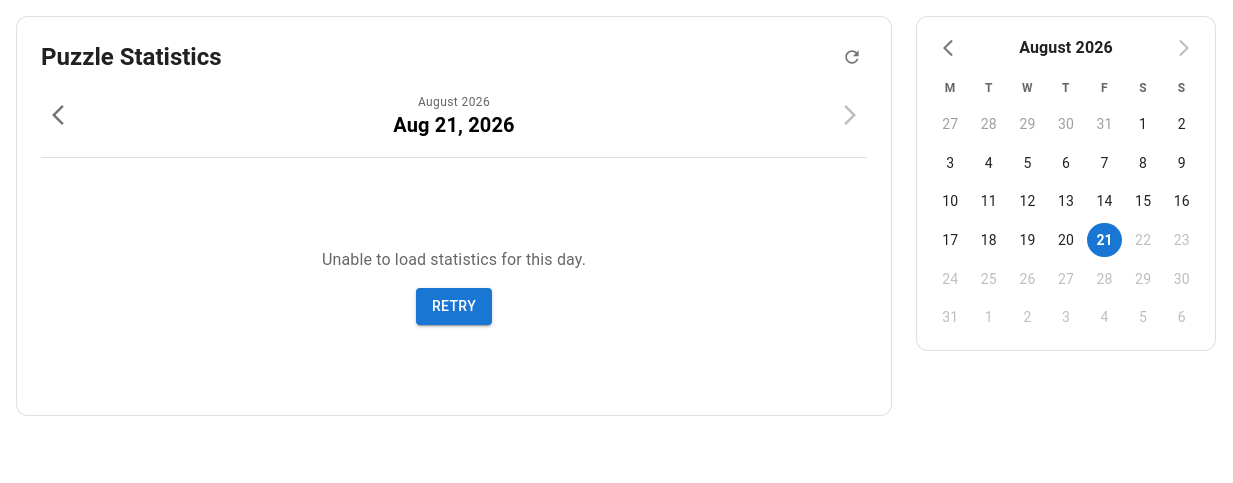
Test case: Stats Page Component › Error Handling & Manual Refresh › displays error message and handles retry button click
Expected: the text "Unable to load statistics for this day." is shown, [322, 248, 586, 272]
Click the button "Retry".
click(454, 306)  # box [416, 288, 492, 325]
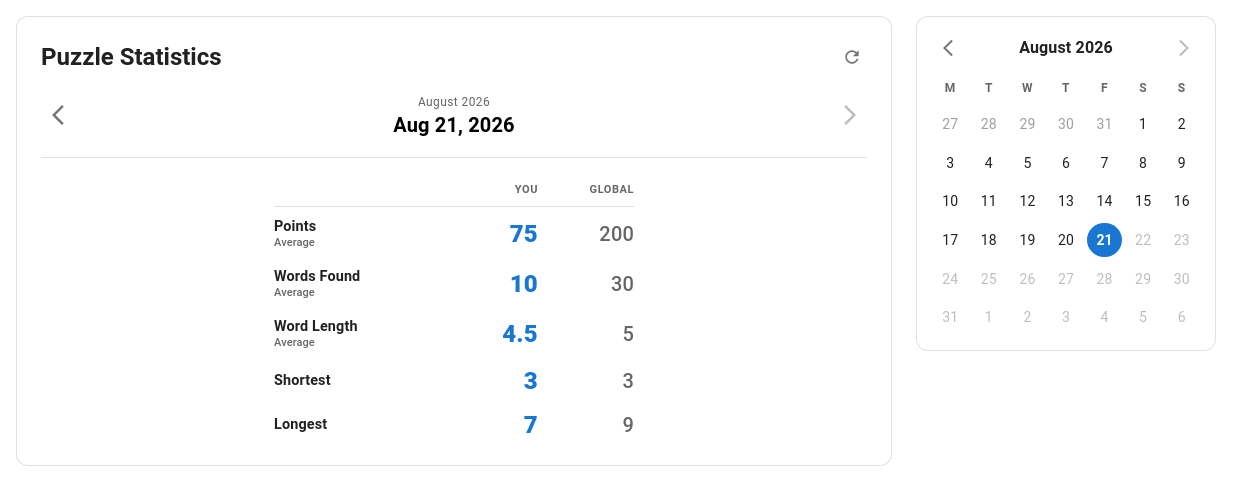
Result: the text "Words Found" is shown at [274, 268, 360, 285]
